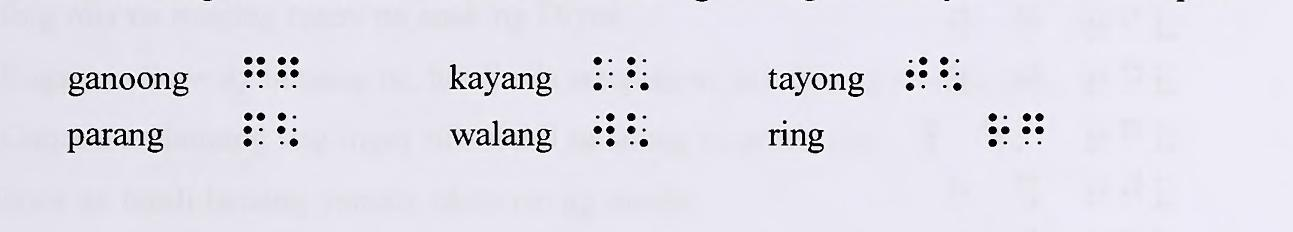letter_g: (277, 56, 300, 93)
one_cell_alphabet_ganoon: (241, 55, 266, 91)
one_cell_alphabet_kaya: (592, 54, 615, 93)
one_cell_alphabet_para: (242, 111, 266, 149)
one_cell_alphabet_rin: (987, 112, 1011, 148)
one_cell_alphabet_tayo: (906, 56, 929, 92)
one_cell_alphabet_wala: (592, 112, 616, 149)
one_cell_non_alphabet_ng: (276, 111, 299, 150)
one_cell_part_word_ng: (939, 55, 964, 92), (626, 54, 649, 92), (1022, 111, 1045, 149), (626, 112, 649, 148)
